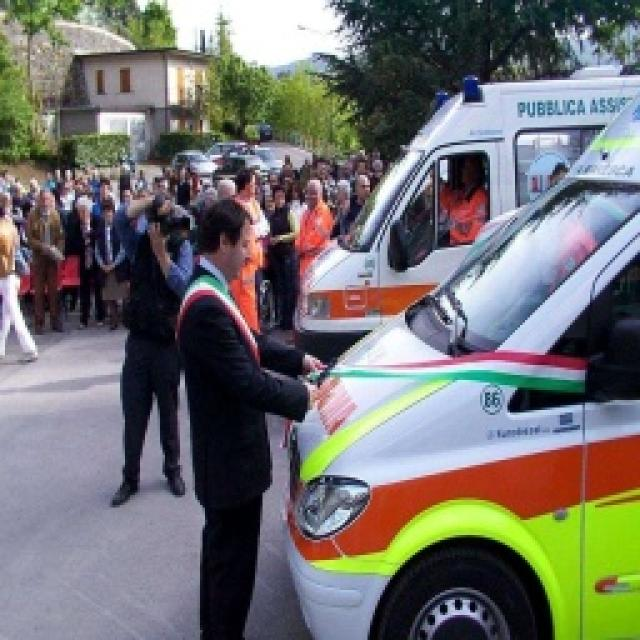emergency-vehicle: (302, 99, 640, 640), (255, 62, 640, 410)
